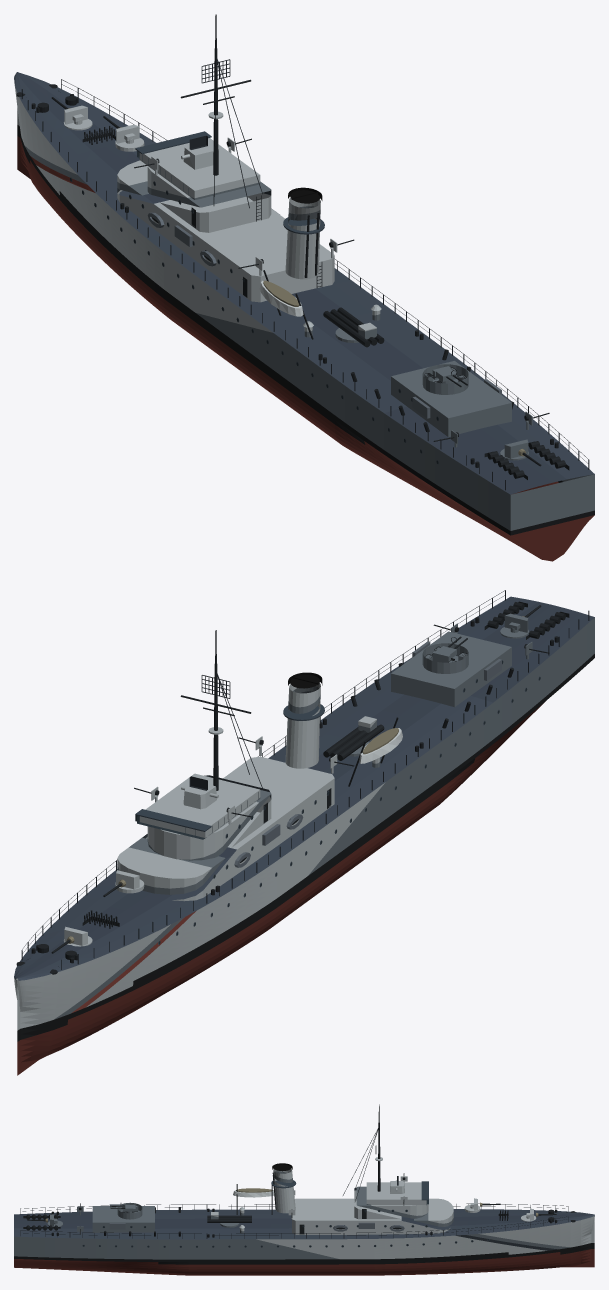
The model's file is buckley_m22.glb.
The picture shows the model from 3 angles, top to bottom: view 1: azimuth 30°, elevation 25°; view 2: azimuth 150°, elevation 25°; view 3: azimuth 270°, elevation 25°; orthographic projection. The views are drawn at different scales.
Parts seen in each view (by area): view 1: Hull, Torpedo1, Director; view 2: Hull, Torpedo1, Director, Mount3; view 3: Hull, Torpedo1.
Boxes of the visible parts, bbox=[...] form: Hull: bbox=[14, 14, 594, 561]; Torpedo1: bbox=[323, 307, 384, 347]; Director: bbox=[181, 135, 218, 169]; Hull: bbox=[14, 590, 594, 1075]; Torpedo1: bbox=[323, 716, 384, 760]; Director: bbox=[181, 776, 218, 809]; Mount3: bbox=[500, 605, 541, 638]; Hull: bbox=[14, 1104, 594, 1275]; Torpedo1: bbox=[207, 1212, 251, 1227].
Size of the model in its own units: 11.9 by 28.85 by 93.29.
